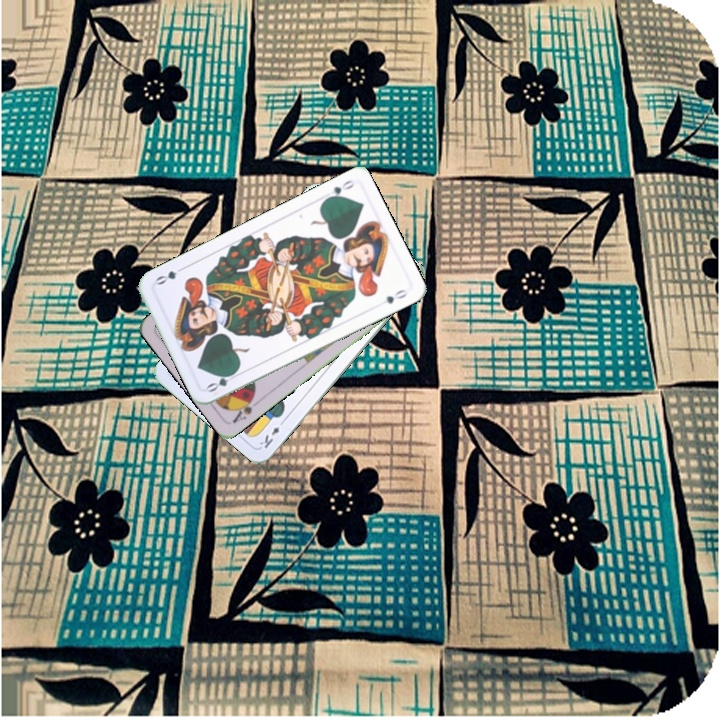EK: (255, 415, 288, 451)
GO: (203, 366, 242, 395), (320, 176, 357, 204)
SA: (228, 391, 263, 426)
